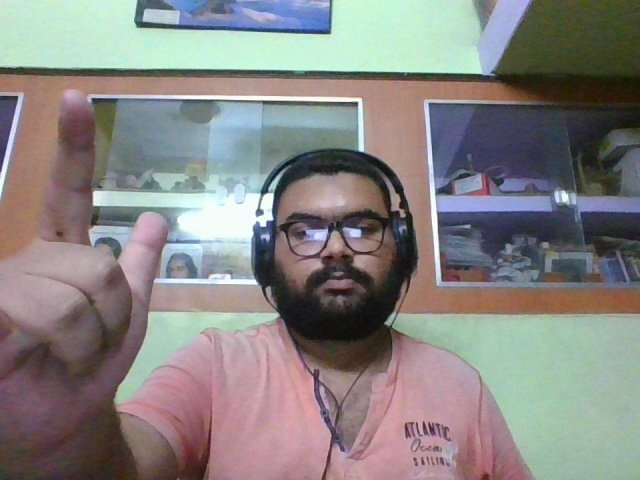hello: (1, 89, 168, 447)
